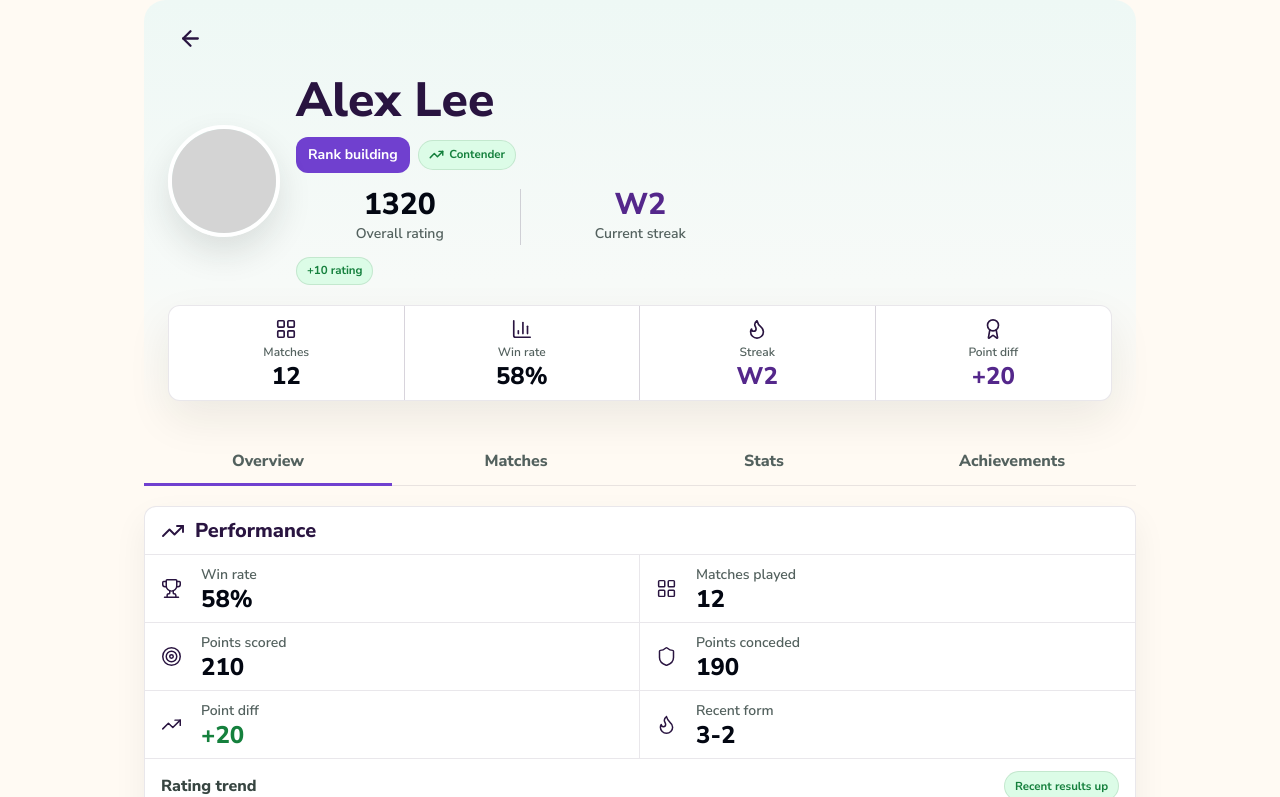
Test: PlayerProfileView › keeps achievement descriptions on the full achievements tab
Click the tab "Achievements" at (1012, 461), box [888,437,1136,485]
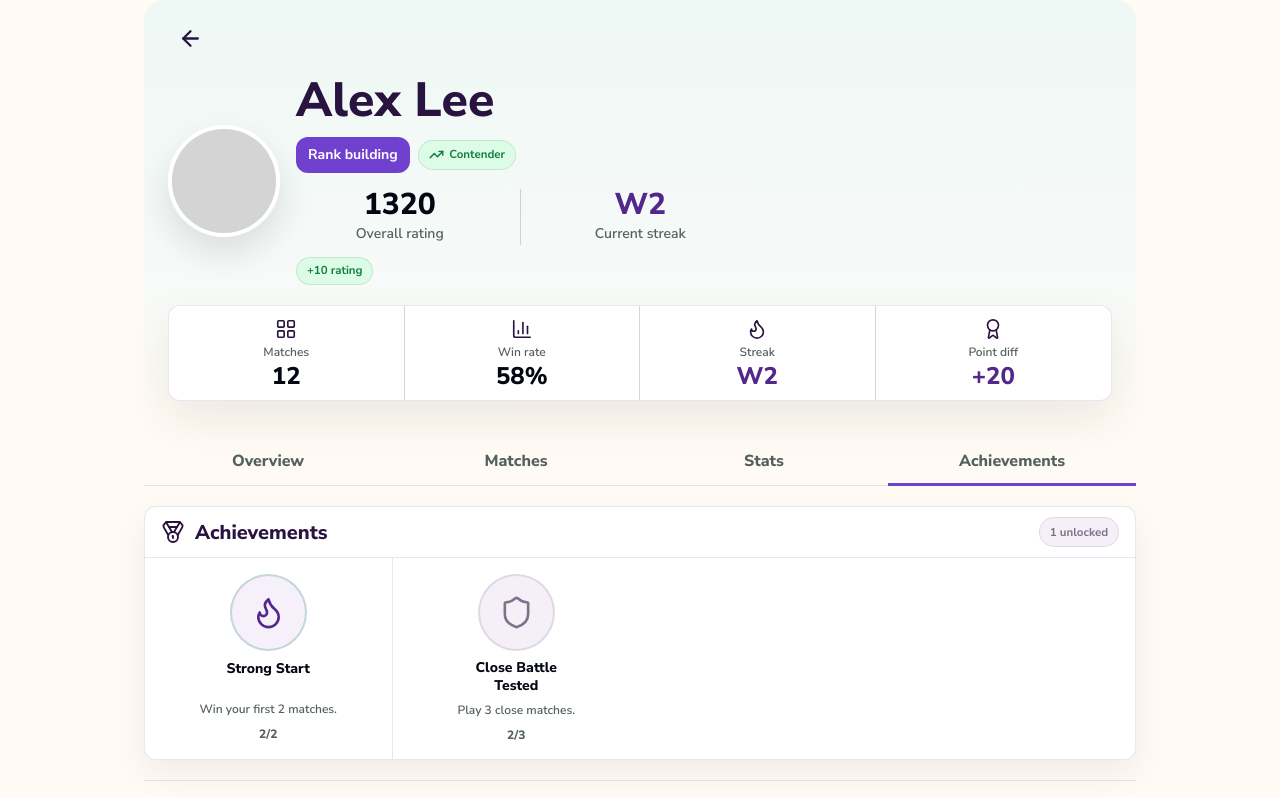
Expected: the text "Locked" is not shown
Expected: the text "Win your first 2 matches." is shown, [200,701,337,717]
Expected: the text "Play 3 close matches." is shown, [457,702,575,719]
